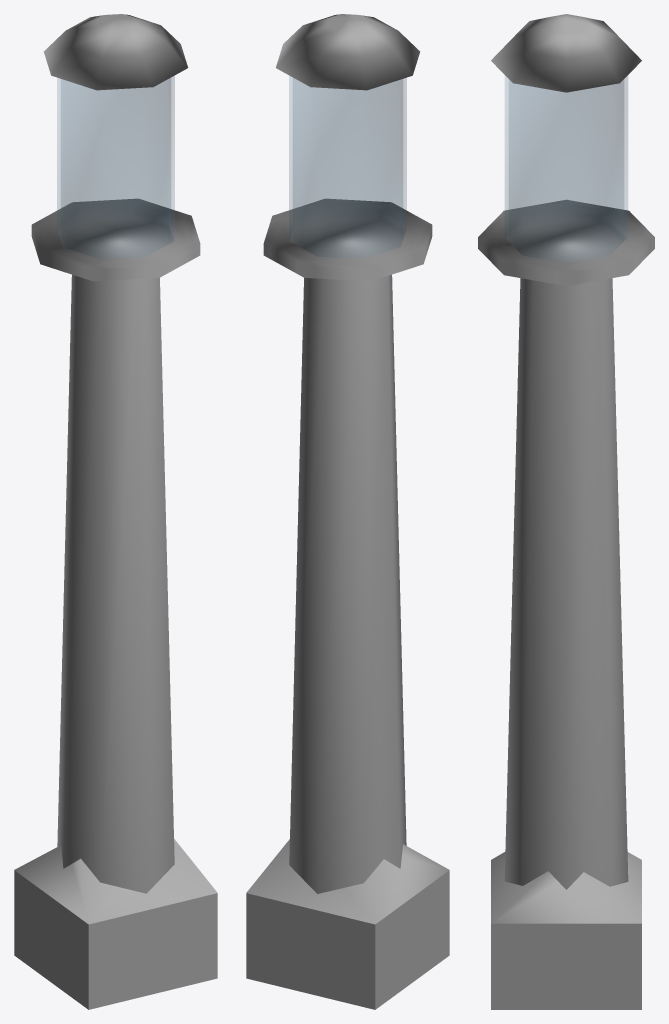
The model's file is itemMesh_lighthouseIs_lightTall.fbx.
3 renders of one model, left to right at view 1: azimuth 30°, elevation 25°; view 2: azimuth 150°, elevation 25°; view 3: azimuth 270°, elevation 25°, orthographic.
Visible parts, largest first — view 1: LanternLighthouseTall; view 2: LanternLighthouseTall; view 3: LanternLighthouseTall.
Part boxes in pixels (bbox=[...]): LanternLighthouseTall: bbox=[14, 14, 217, 1009]; LanternLighthouseTall: bbox=[246, 14, 449, 1009]; LanternLighthouseTall: bbox=[478, 14, 654, 1009].
Size of the model in its own units: 0.5863 by 3.51 by 0.5863.
